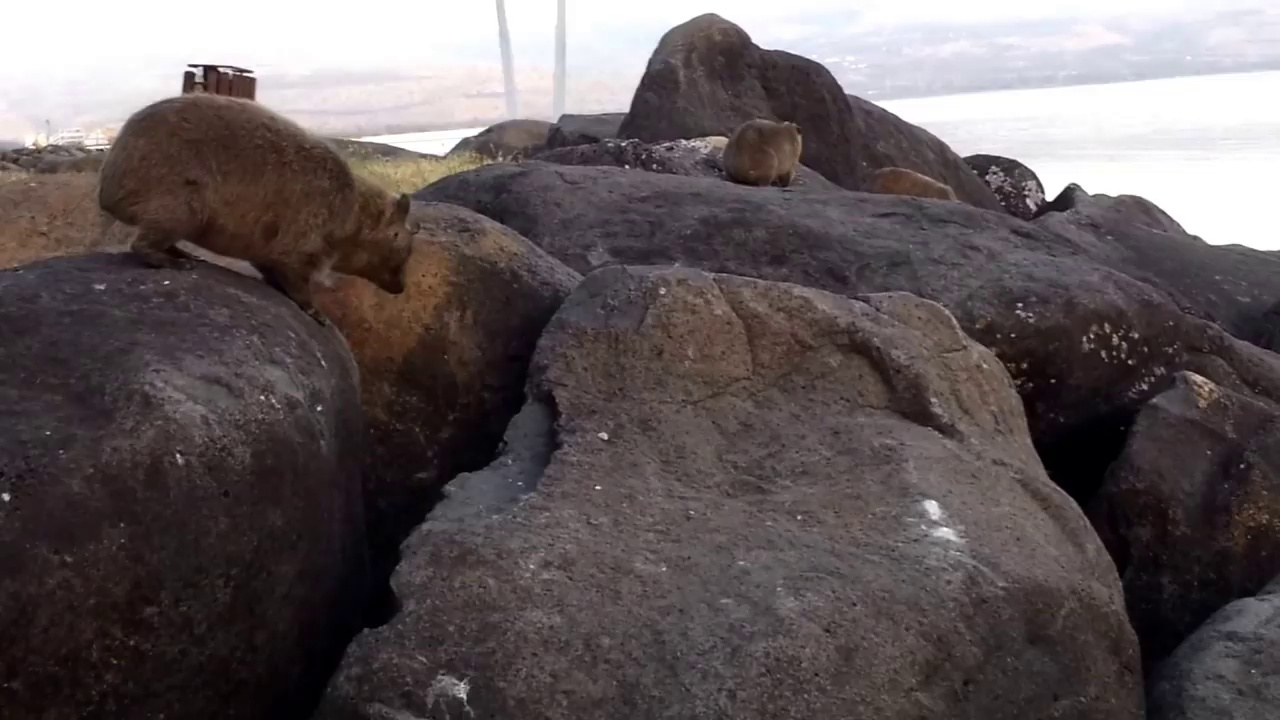Rock Hyrex: (103, 93, 413, 317), (714, 112, 804, 195), (854, 164, 969, 207)
